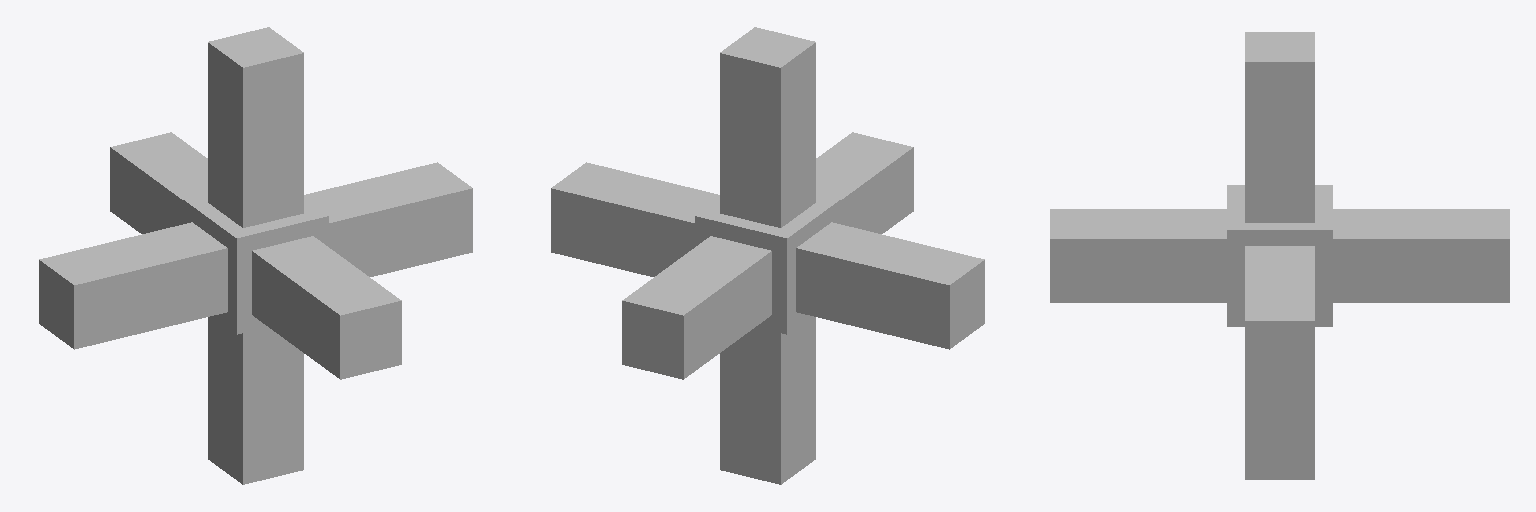
File: thaumicPipe.obj
The picture shows the model from 3 angles: view 1: azimuth 30°, elevation 25°; view 2: azimuth 150°, elevation 25°; view 3: azimuth 270°, elevation 25°; orthographic projection.
Parts seen in each view (by area): view 1: Arm1, Arm5, Arm4, Arm2, Arm6, Arm3, Centre; view 2: Arm1, Arm5, Arm3, Arm2, Arm6, Arm4, Centre; view 3: Arm4, Arm3, Arm1, Arm6, Centre, Arm2.
Part boxes in pixels (x1,y1,x2,y2): Arm1: (208, 27, 303, 227); Arm5: (39, 222, 227, 349); Arm4: (252, 236, 401, 379); Arm2: (208, 316, 303, 484); Arm6: (304, 162, 472, 276); Arm3: (110, 132, 207, 233); Centre: (183, 194, 328, 334); Arm1: (720, 27, 815, 227); Arm5: (796, 222, 984, 349); Arm3: (622, 236, 771, 379); Arm2: (720, 316, 815, 484); Arm6: (551, 162, 719, 276); Arm4: (816, 132, 913, 233); Centre: (695, 194, 840, 334); Arm4: (1050, 209, 1226, 302); Arm3: (1333, 209, 1509, 302); Arm1: (1245, 32, 1314, 222); Arm6: (1245, 246, 1314, 384); Centre: (1227, 185, 1332, 326); Arm2: (1245, 385, 1314, 479).
Bounding box in the file's own units: 2.6 × 2.6 × 2.6.